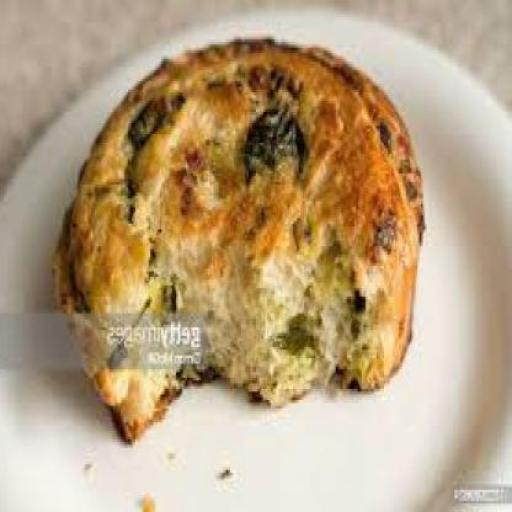biodegradable: (56, 34, 423, 445)
